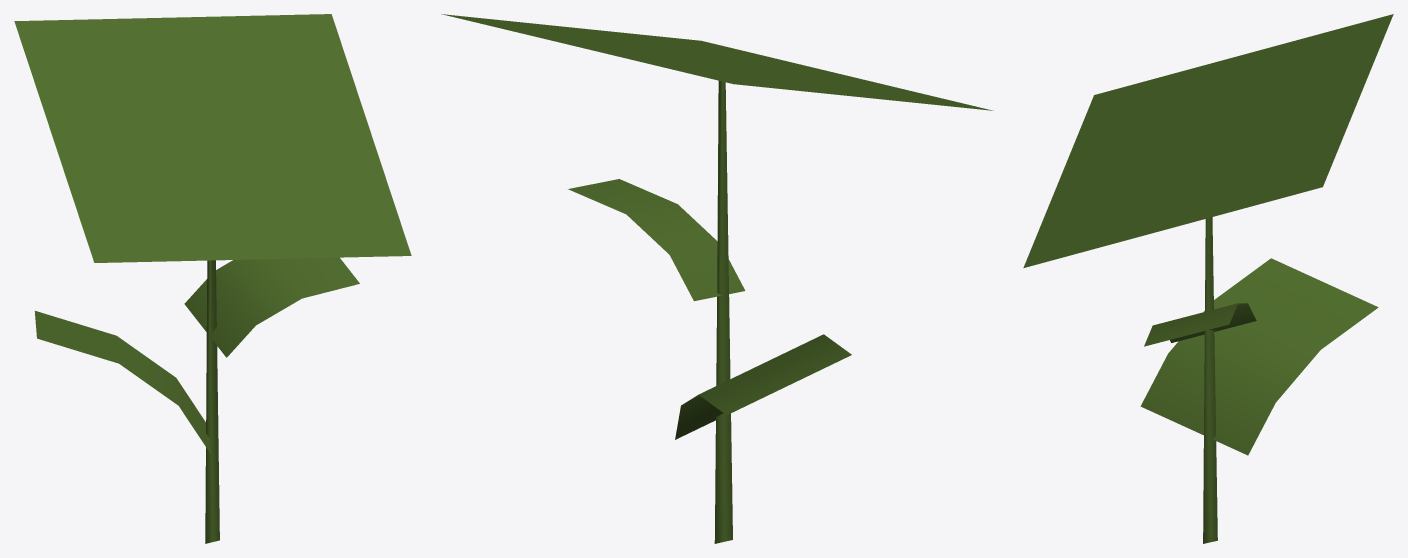
File: Flower_1.glb
3 renders of one model, left to right at view 1: azimuth 30°, elevation 25°; view 2: azimuth 150°, elevation 25°; view 3: azimuth 270°, elevation 25°, orthographic. The views are drawn at different scales.
Parts seen in each view (by area): view 1: Flower_1; view 2: Flower_1; view 3: Flower_1.
Boxes of the visible parts, x1=… form: Flower_1: x1=14, y1=14, x2=411, y2=543; Flower_1: x1=441, y1=14, x2=993, y2=543; Flower_1: x1=1023, y1=14, x2=1393, y2=543.
Size of the model in its own units: 0.1084 by 0.1403 by 0.099.
